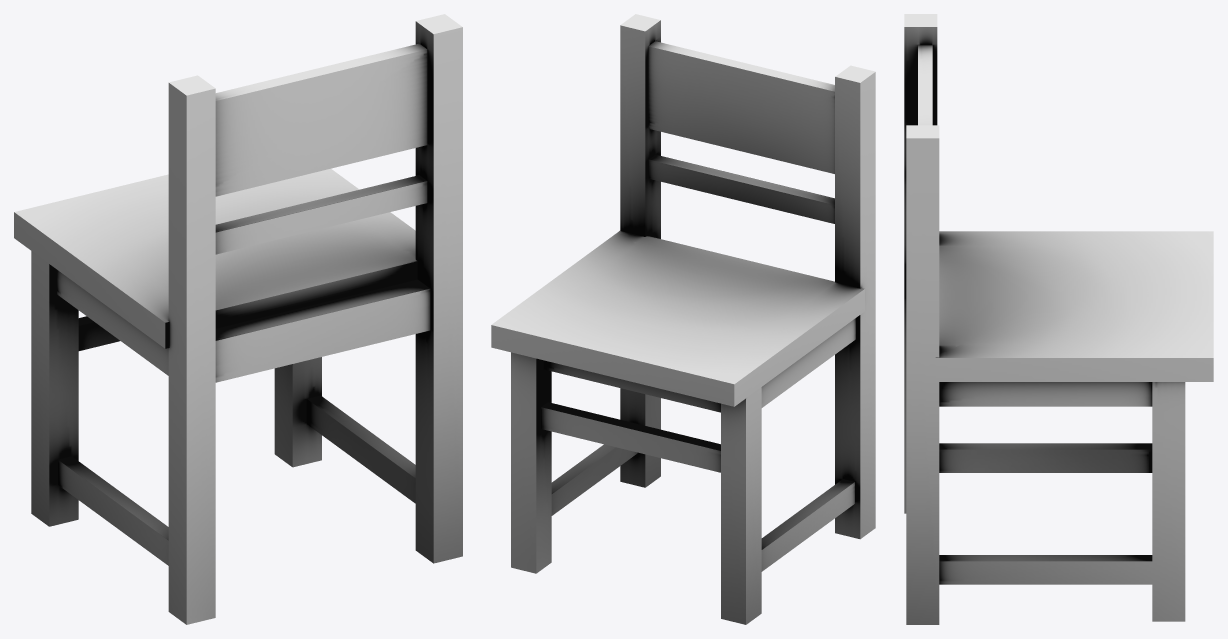
File: chair01.fbx
The picture shows the model from 3 angles, left to right: view 1: azimuth 30°, elevation 25°; view 2: azimuth 150°, elevation 25°; view 3: azimuth 270°, elevation 25°; orthographic projection. The views are drawn at different scales.
Parts seen in each view (by area): view 1: chair01; view 2: chair01; view 3: chair01.
Boxes of the visible parts, <box> form: chair01: <box>14,14,462,624</box>; chair01: <box>491,14,875,624</box>; chair01: <box>904,14,1213,624</box>.
Size of the model in its own units: 41.74 by 74.83 by 43.1.
